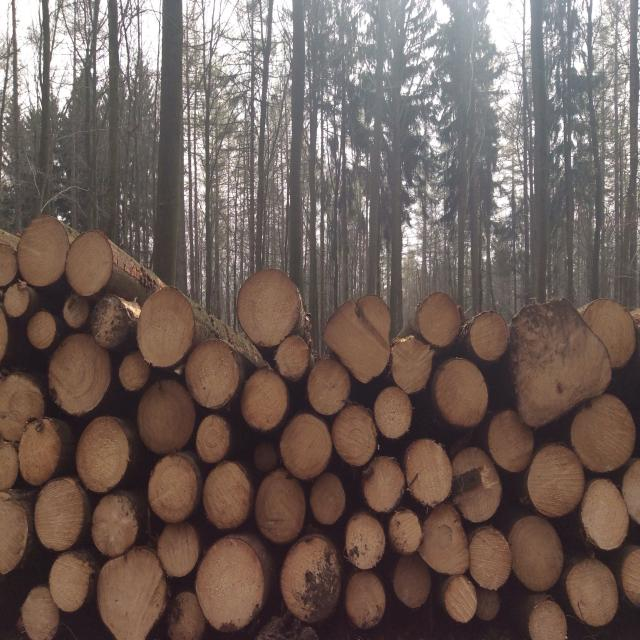wood-log: (512, 298, 613, 428), (99, 545, 171, 639), (196, 537, 266, 631), (324, 296, 392, 384), (280, 533, 344, 624), (48, 332, 111, 415), (569, 396, 636, 474), (234, 268, 300, 346), (527, 445, 589, 519), (137, 288, 195, 366), (136, 382, 198, 454), (76, 414, 132, 492), (185, 340, 245, 410), (35, 480, 91, 555), (512, 516, 566, 592), (582, 297, 639, 369), (452, 448, 503, 526), (255, 467, 307, 543), (16, 215, 70, 287), (432, 360, 488, 429), (564, 560, 619, 628), (277, 416, 332, 482), (576, 481, 626, 553), (152, 455, 204, 524), (418, 502, 466, 575), (202, 460, 252, 530), (403, 437, 452, 505), (66, 230, 115, 297), (90, 488, 137, 556), (486, 408, 535, 471), (0, 374, 44, 444), (242, 372, 290, 434), (469, 526, 513, 591), (21, 416, 63, 484), (332, 404, 378, 466), (50, 550, 93, 611), (359, 456, 404, 514), (418, 292, 464, 348), (307, 358, 351, 416), (344, 568, 386, 628), (0, 492, 29, 578), (344, 512, 386, 571), (392, 336, 436, 392), (154, 525, 199, 578), (91, 294, 136, 347), (19, 585, 61, 640), (393, 557, 434, 610), (469, 313, 512, 363), (373, 387, 412, 440), (312, 472, 349, 526), (169, 592, 208, 640), (443, 574, 479, 624), (274, 334, 312, 380), (255, 614, 322, 640), (527, 597, 567, 640), (197, 416, 232, 464), (389, 512, 424, 556), (620, 458, 640, 527), (620, 545, 640, 606), (26, 310, 57, 349), (120, 353, 151, 391), (0, 437, 18, 490), (64, 295, 92, 329), (0, 238, 19, 288), (2, 284, 29, 318), (252, 442, 279, 474), (477, 588, 503, 621), (0, 308, 8, 361)
